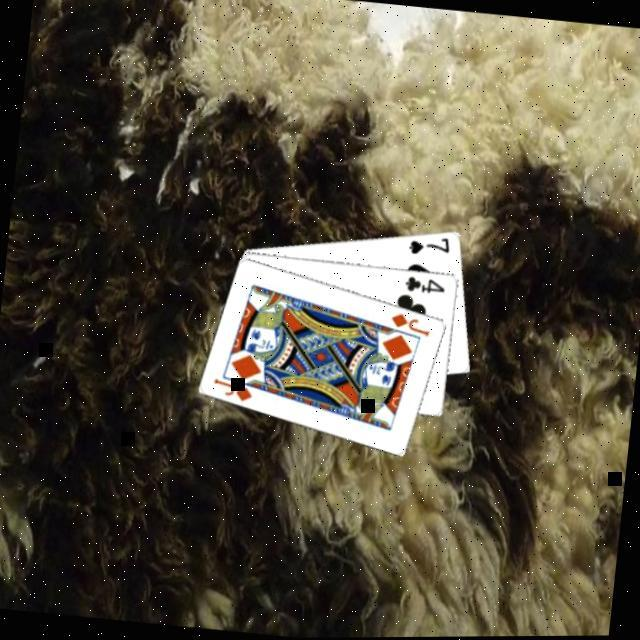4C: (399, 270, 447, 295)
7S: (404, 228, 452, 259)
JD: (384, 305, 432, 337), (208, 372, 256, 404)
